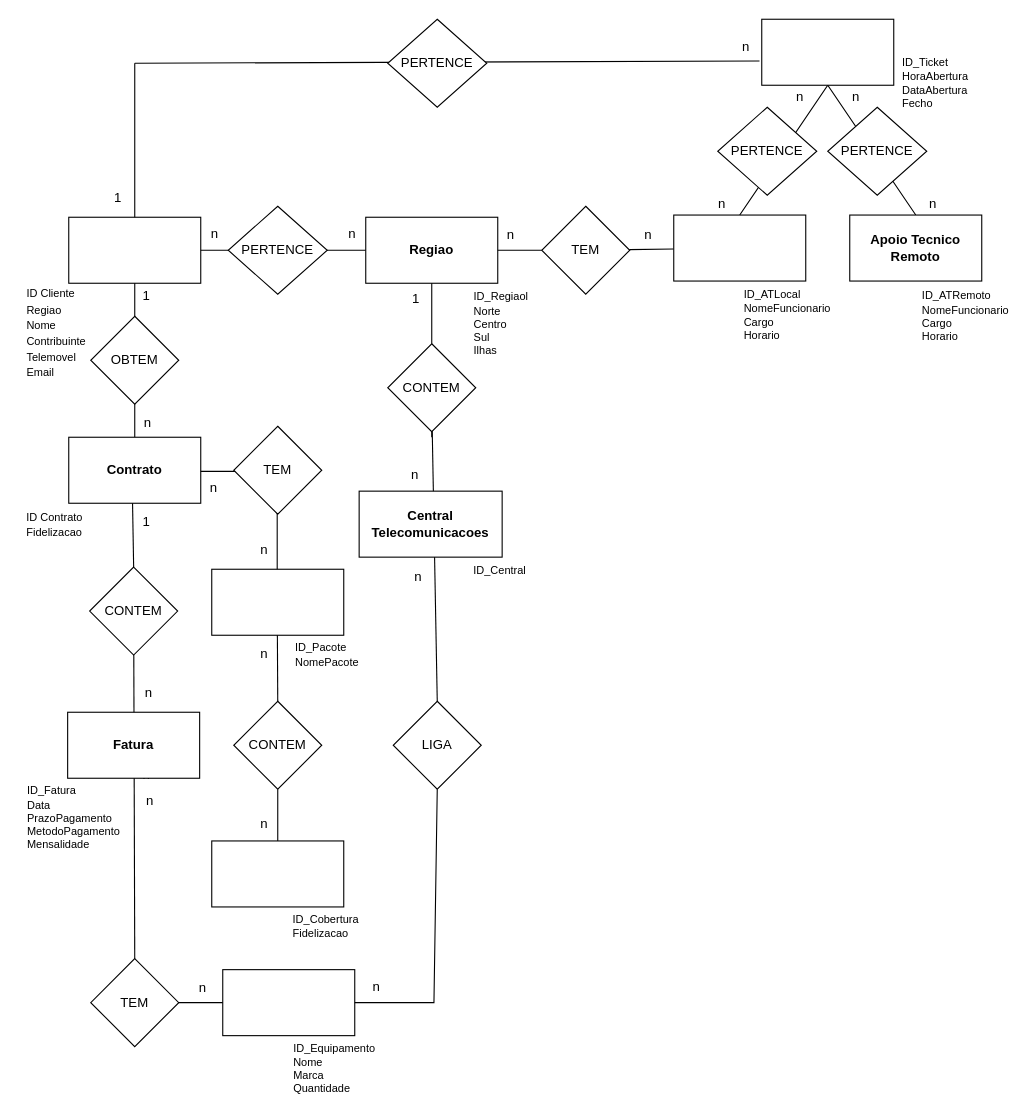
The diagram is 1030 pixels wide and 1114 high, and some of its shapes have lost their labels. The shapes that lost their labels are listed below. From the top down, each one's centre as x and y in pixels, then its label:
At point 827,51: "Ticket".
At point 134,249: "Cliente".
At point 739,247: "Apoio Tecnico Local".
At point 277,601: "Pacote".
At point 277,873: "Cobertura".
At point 288,1002: "Equipamento".
